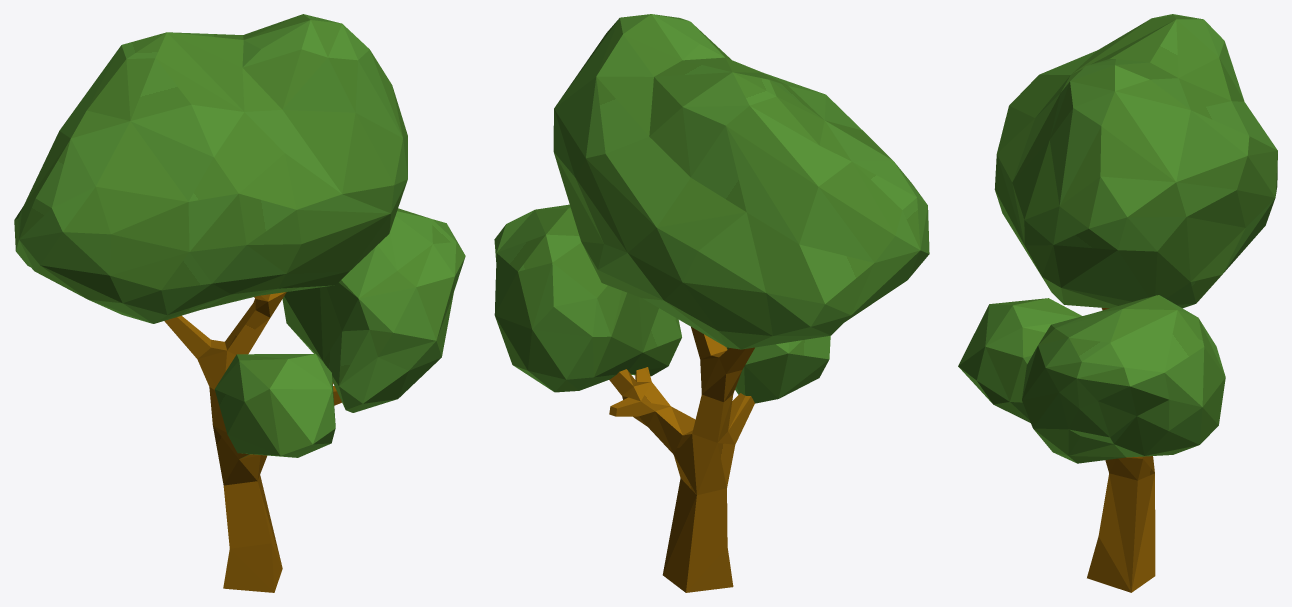
File: palm.tall.gltf
3 renders of one model, left to right at view 1: azimuth 30°, elevation 25°; view 2: azimuth 150°, elevation 25°; view 3: azimuth 270°, elevation 25°, orthographic. The views are drawn at different scales.
Visible parts, largest first — view 1: Tree1_1; view 2: Tree1_1; view 3: Tree1_1.
Boxes of the visible parts, left/top/right/bottom form: Tree1_1: left=14, top=14, right=465, bottom=592; Tree1_1: left=494, top=14, right=929, bottom=592; Tree1_1: left=958, top=14, right=1277, bottom=592.
Size of the model in its own units: 0.9957 by 1.22 by 0.6578.
1 material, 1 textured.
